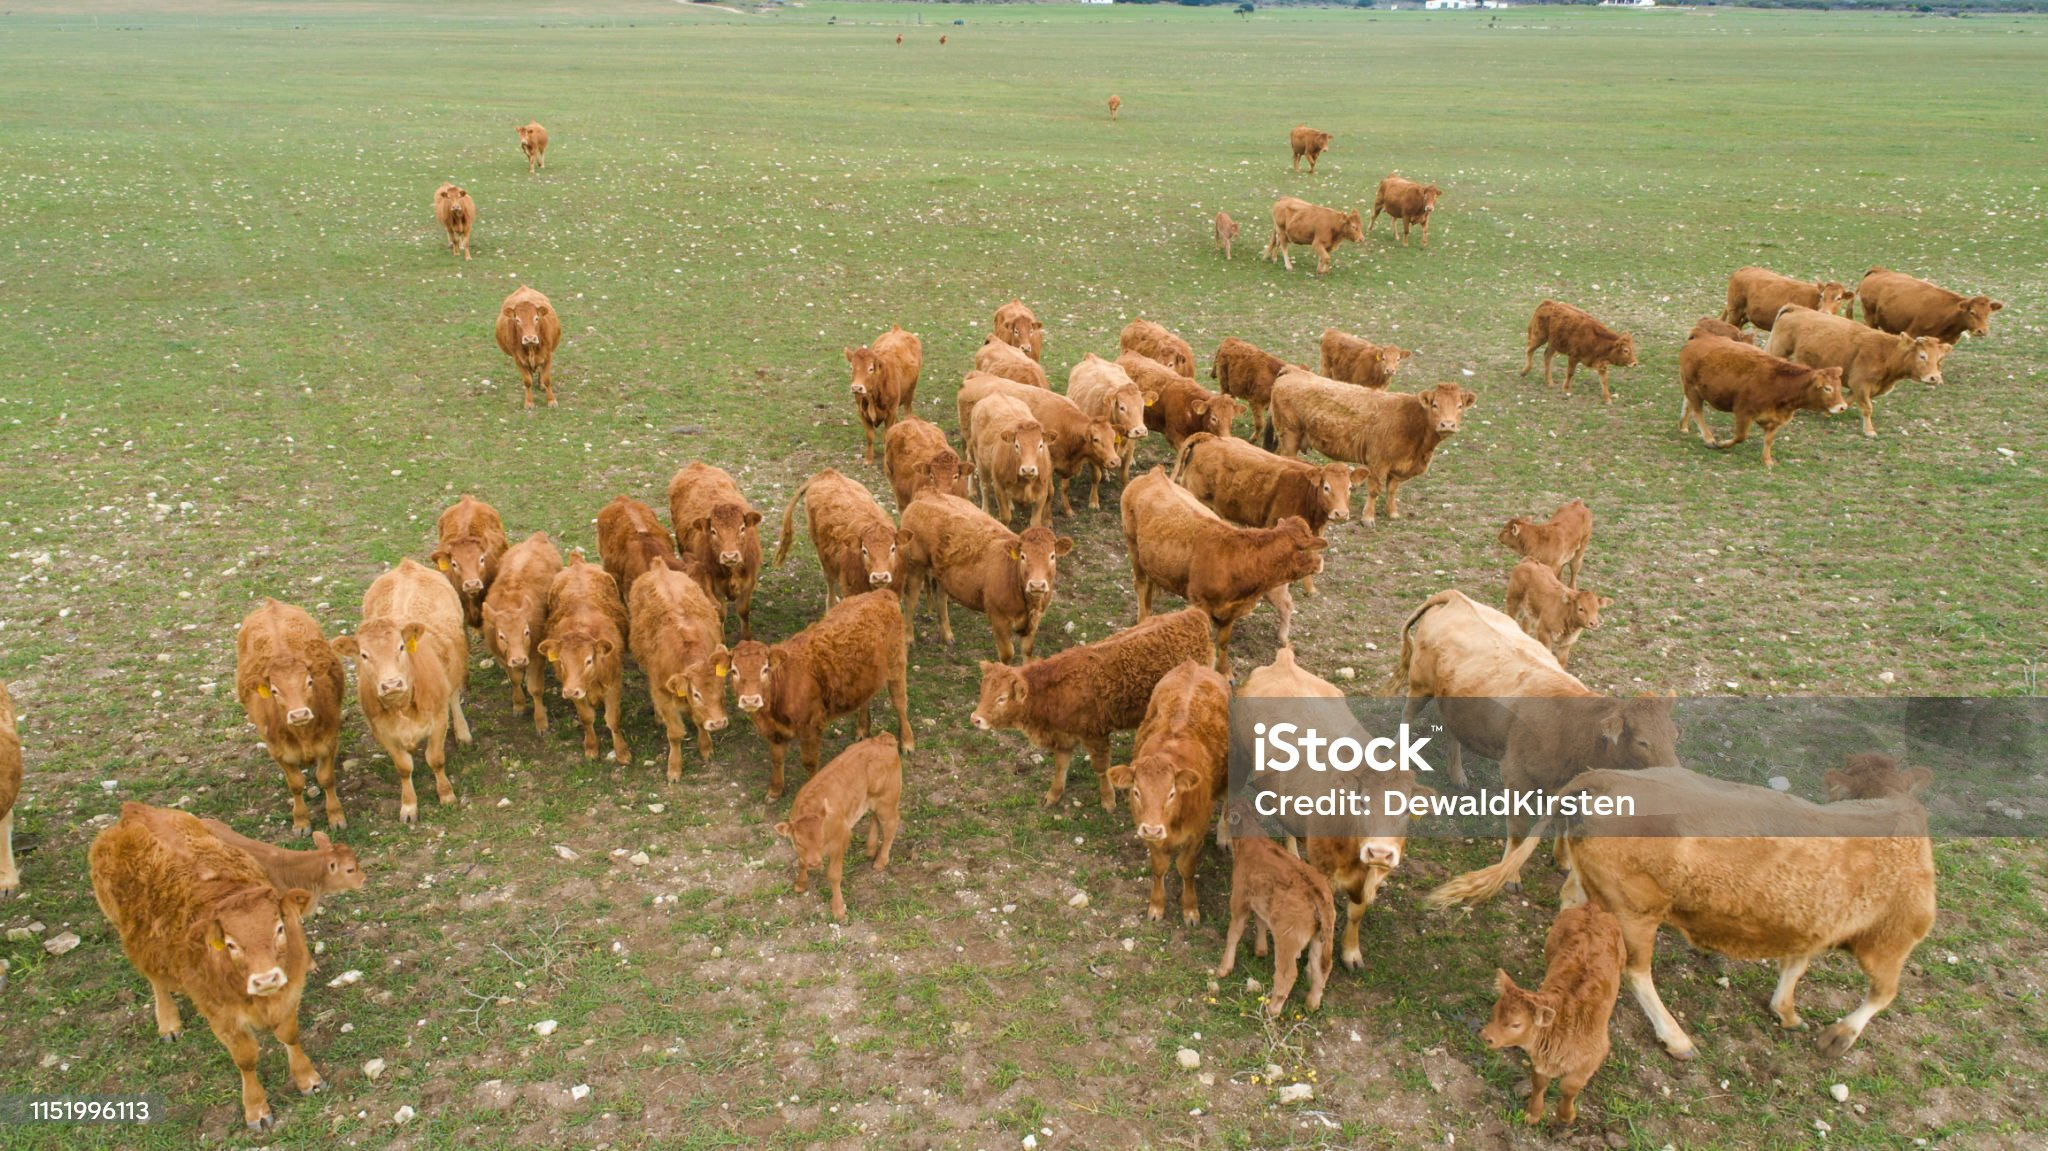cattle: (1433, 730, 1961, 1055), (1384, 594, 1681, 878), (73, 799, 324, 1124), (1224, 635, 1443, 946), (971, 605, 1231, 794), (1092, 462, 1333, 651), (709, 573, 931, 775), (1481, 879, 1627, 1140), (1108, 646, 1231, 953), (342, 559, 478, 833), (208, 583, 352, 837), (1276, 357, 1478, 516), (753, 737, 931, 917), (892, 485, 1075, 659), (1218, 787, 1339, 1019), (620, 559, 733, 806), (1668, 331, 1847, 462), (1769, 300, 1951, 426), (540, 543, 634, 782), (658, 447, 781, 630), (774, 462, 917, 612), (956, 366, 1122, 492), (1170, 422, 1362, 530), (196, 805, 376, 917), (1855, 241, 2004, 363), (954, 388, 1075, 530), (487, 533, 561, 742), (416, 485, 509, 635), (833, 321, 930, 457), (1522, 295, 1634, 409), (1122, 345, 1241, 450), (1499, 559, 1611, 659), (1716, 248, 1847, 331), (1485, 500, 1613, 584), (489, 280, 571, 408), (1263, 184, 1367, 284), (587, 494, 678, 604), (881, 414, 973, 516), (1068, 341, 1149, 457), (1212, 325, 1303, 429), (1, 661, 32, 917), (1317, 321, 1409, 402), (1115, 304, 1210, 379), (1371, 165, 1445, 250), (962, 328, 1058, 386), (423, 180, 487, 248), (987, 297, 1054, 353), (1689, 304, 1760, 352), (1281, 117, 1335, 179), (513, 115, 553, 172), (1205, 205, 1243, 262), (1103, 89, 1124, 122)
